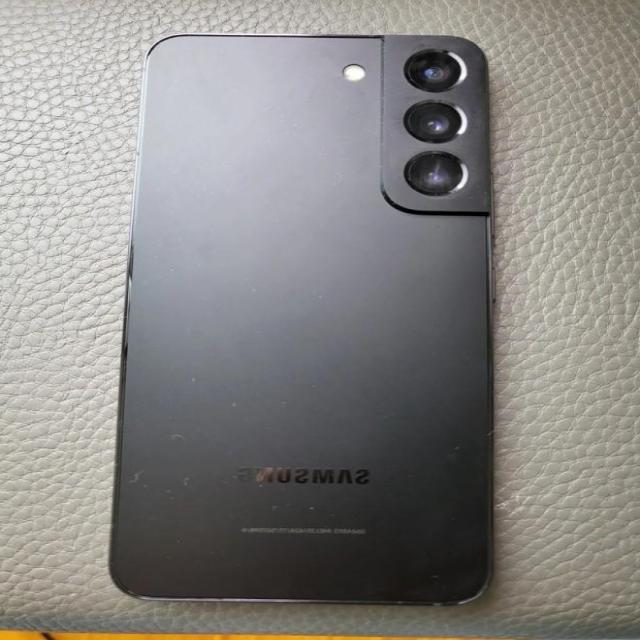mobile: (108, 31, 496, 606)
